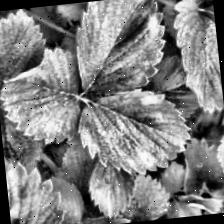Powdery Mildew Leaf: (74, 84, 196, 182)
